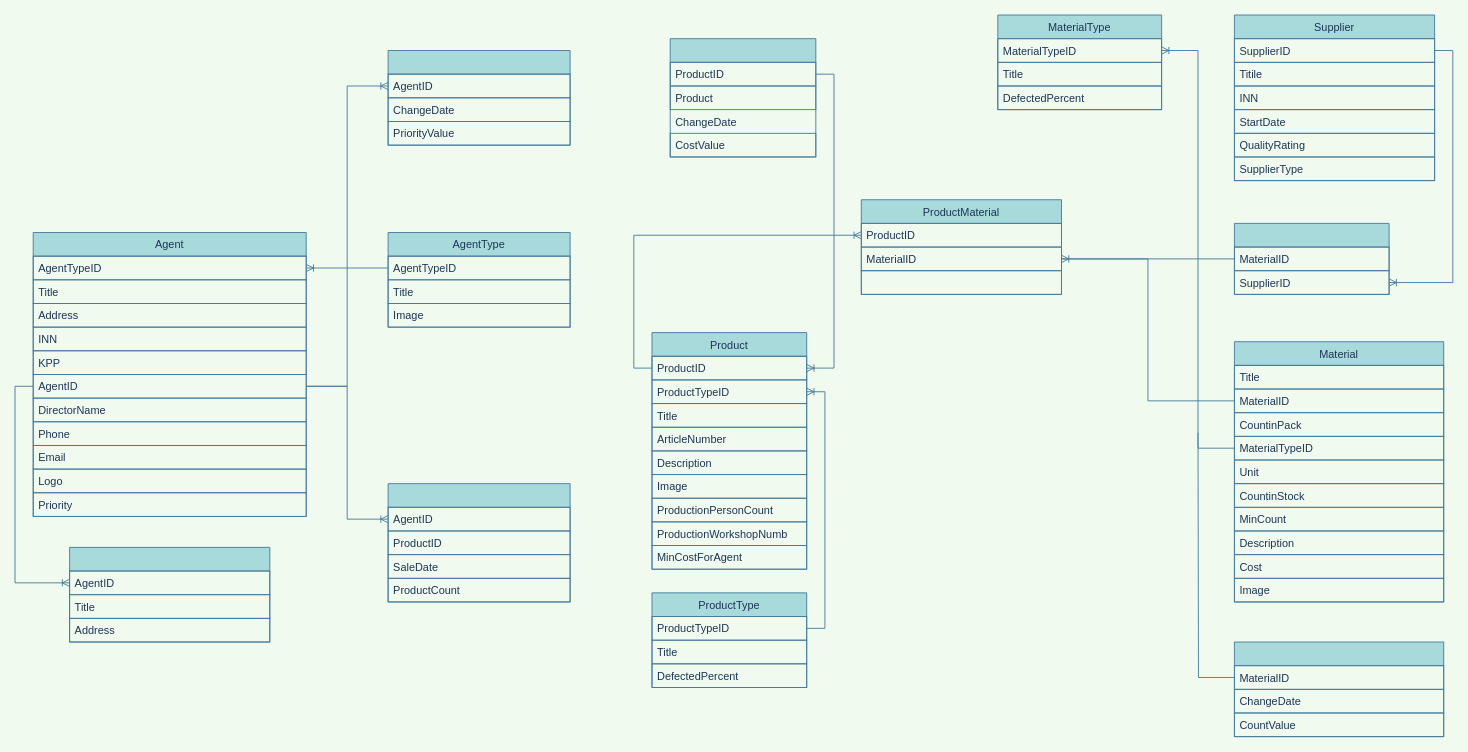
Some shapes in this 1468 by 752 pixel diagram are drawn without their labels. The shapes that lost their labels are listed below. From the top down, each one's box as (x1, y1, x2, y2) in pixels, then its label:
(387, 50, 570, 145): AgentPriorityHistory
(669, 38, 816, 157): ProductCostHistory
(1234, 222, 1389, 294): MaterialSupplier
(860, 270, 1062, 294): Count
(387, 483, 570, 602): ProductSale
(69, 546, 270, 642): Shop
(1234, 641, 1444, 737): MaterialCountHistory
